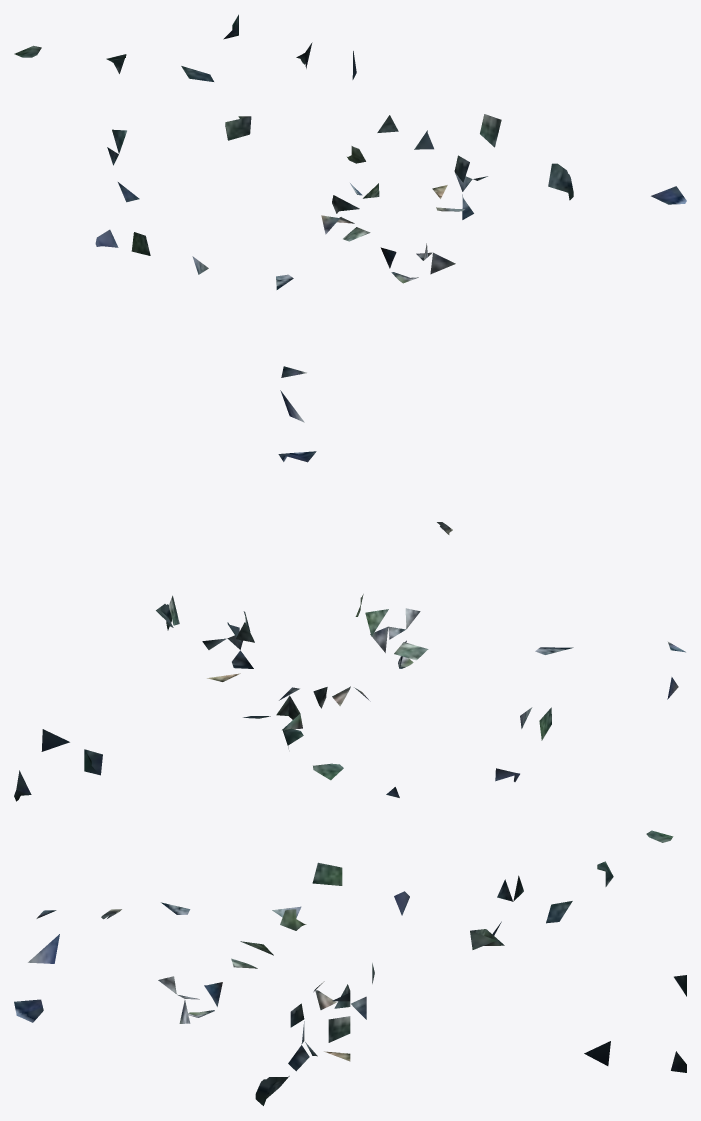
3 renders of one model, top to bottom at view 1: azimuth 30°, elevation 25°; view 2: azimuth 150°, elevation 25°; view 3: azimuth 270°, elevation 25°, orthographic. The views are drawn at different scales.
Parts seen in each view (by area): view 1: 30436272704361435502_1; view 2: 30436272704361435502_1; view 3: 30436272704361435502_1.
Boxes of the visible parts, x1,y1,x2,y2 form: 30436272704361435502_1: (14,14,686,422); 30436272704361435502_1: (14,451,685,801); 30436272704361435502_1: (14,830,686,1105).
Bounding box in the file's own units: 27.31 × 9.09 × 38.26.
Materials: 1 (1 with a texture image).
